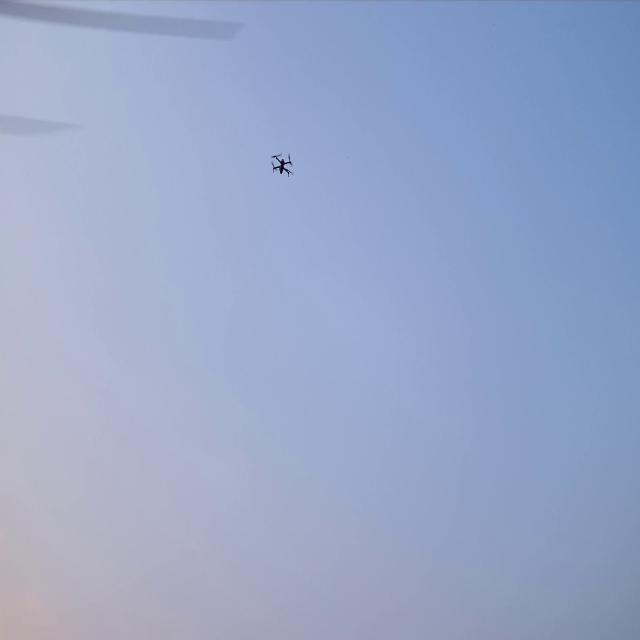UAV: (270, 151, 295, 178)
